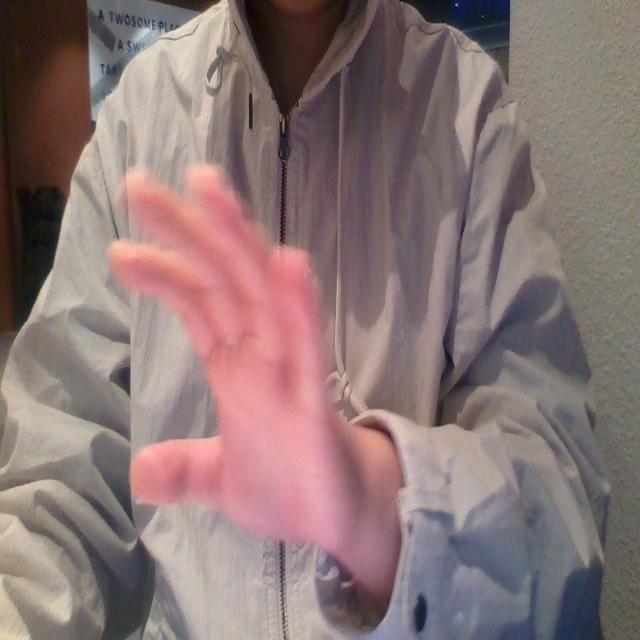hand: (101, 163, 365, 606)
